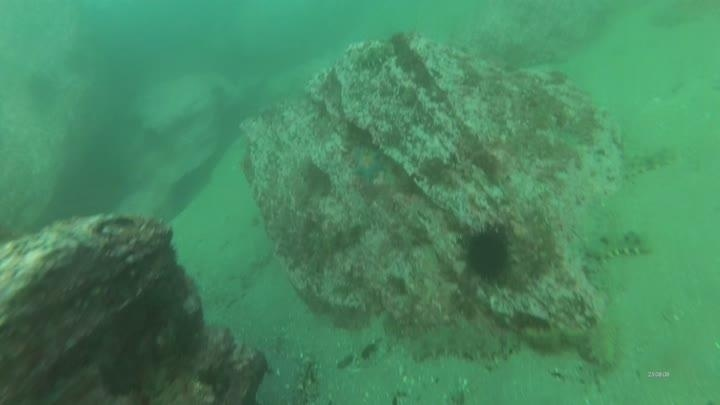echinus: (459, 223, 516, 285)
holothurian: (406, 322, 518, 366), (518, 320, 613, 367), (580, 228, 655, 264), (580, 310, 623, 372), (619, 142, 682, 179), (341, 44, 390, 71)
starfish: (346, 140, 389, 183)
